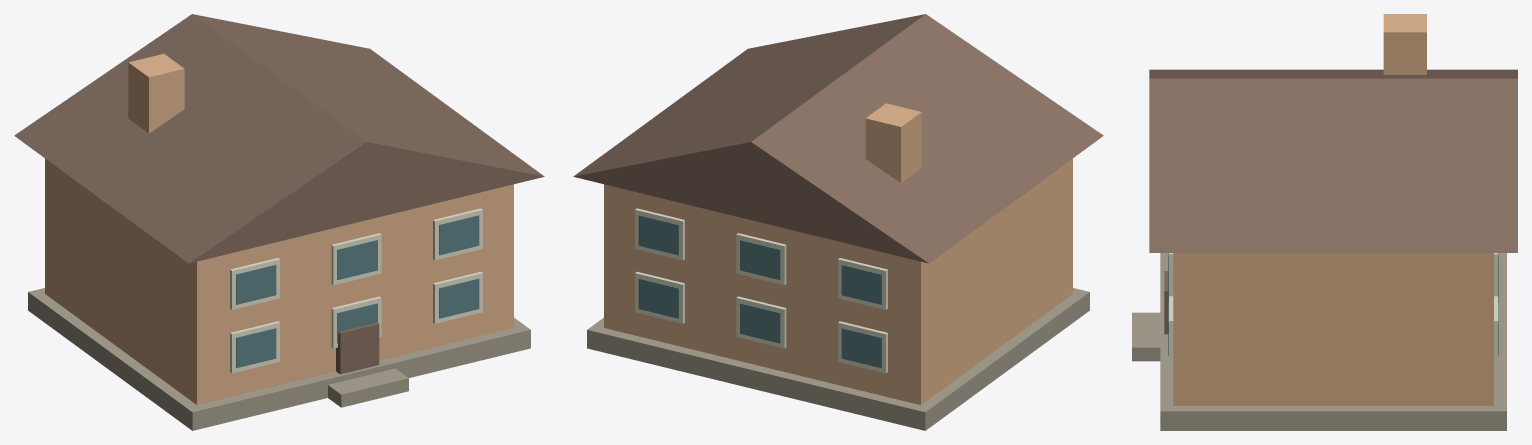
Rendered from coastal-sand.glb.
The picture shows the model from 3 angles, left to right: view 1: azimuth 30°, elevation 25°; view 2: azimuth 150°, elevation 25°; view 3: azimuth 270°, elevation 25°; orthographic projection. The views are drawn at different scales.
Visible parts, largest first — view 1: Gable, Main volume, Footing, Chimney, Entry step, Entry, Window glazing.010, Window glazing, Window glazing.004, Window glazing.006, Window glazing.008, Window trim.008 (+6 smaller); view 2: Gable, Main volume, Footing, Chimney, Window glazing.011, Window glazing.001, Window glazing.003, Window glazing.005, Window glazing.007, Window glazing.009, Window trim.003, Window trim.009 (+4 smaller); view 3: Gable, Main volume, Footing, Chimney, Entry step.
Part boxes in pixels (left/top/right/bottom): Gable: left=14, top=14, right=544, bottom=263; Main volume: left=45, top=158, right=513, bottom=404; Footing: left=28, top=288, right=530, bottom=430; Chimney: left=128, top=53, right=184, bottom=133; Entry step: left=328, top=368, right=408, bottom=407; Entry: left=336, top=322, right=379, bottom=374; Window glazing.010: left=439, top=215, right=479, bottom=255; Window glazing: left=236, top=328, right=276, bottom=368; Window glazing.004: left=439, top=278, right=479, bottom=318; Window glazing.006: left=236, top=265, right=276, bottom=304; Window glazing.008: left=337, top=240, right=377, bottom=279; Window trim.008: left=331, top=233, right=381, bottom=285; Gable: left=573, top=14, right=1103, bottom=263; Main volume: left=604, top=158, right=1072, bottom=404; Footing: left=587, top=288, right=1089, bottom=430; Chimney: left=865, top=103, right=921, bottom=182; Window glazing.011: left=638, top=215, right=678, bottom=255; Window glazing.001: left=841, top=328, right=881, bottom=368; Window glazing.003: left=740, top=303, right=780, bottom=343; Window glazing.005: left=638, top=278, right=678, bottom=318; Window glazing.007: left=841, top=265, right=881, bottom=304; Window glazing.009: left=740, top=240, right=780, bottom=279; Window trim.003: left=736, top=296, right=786, bottom=348; Window trim.009: left=736, top=233, right=786, bottom=285; Gable: left=1149, top=69, right=1517, bottom=252; Main volume: left=1173, top=253, right=1493, bottom=405; Footing: left=1160, top=253, right=1506, bottom=430; Chimney: left=1383, top=14, right=1426, bottom=74; Entry step: left=1132, top=312, right=1160, bottom=361.
Size of the model in its own units: 20 by 14 by 17.8.
